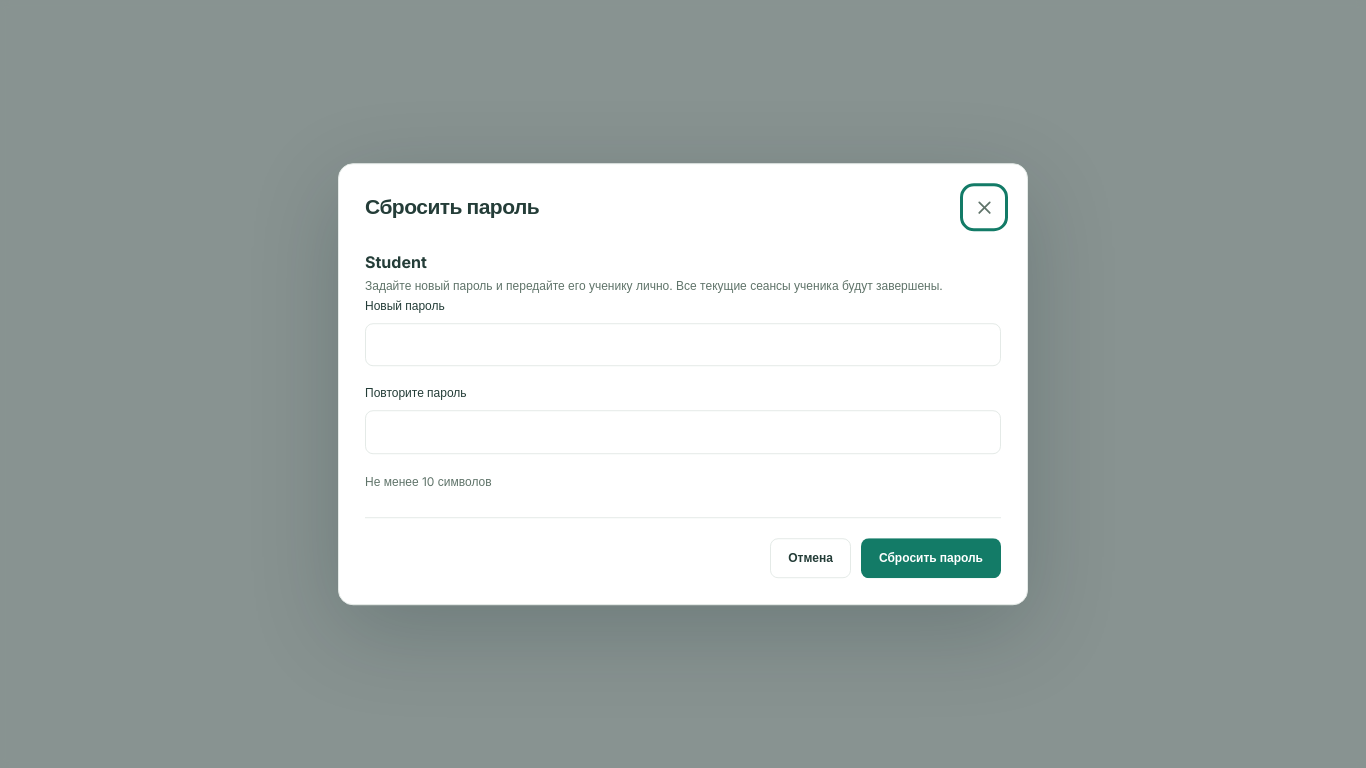
rejects different confirmation and clears password after success
In the password field named "password": [683, 345] box [365, 323, 1001, 366], type "New-password-123"
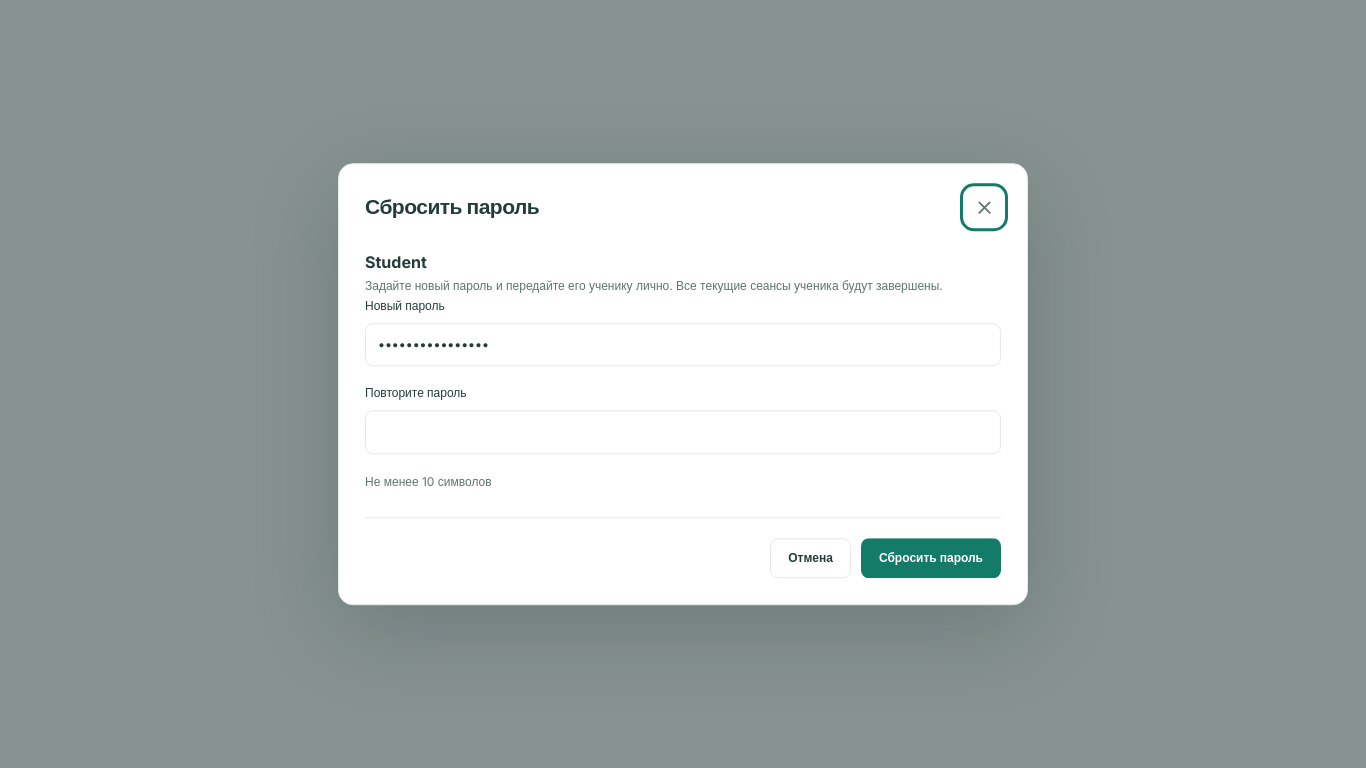
In the password field named "repeat": [683, 432] box [365, 410, 1001, 454], type "Different-password-123"
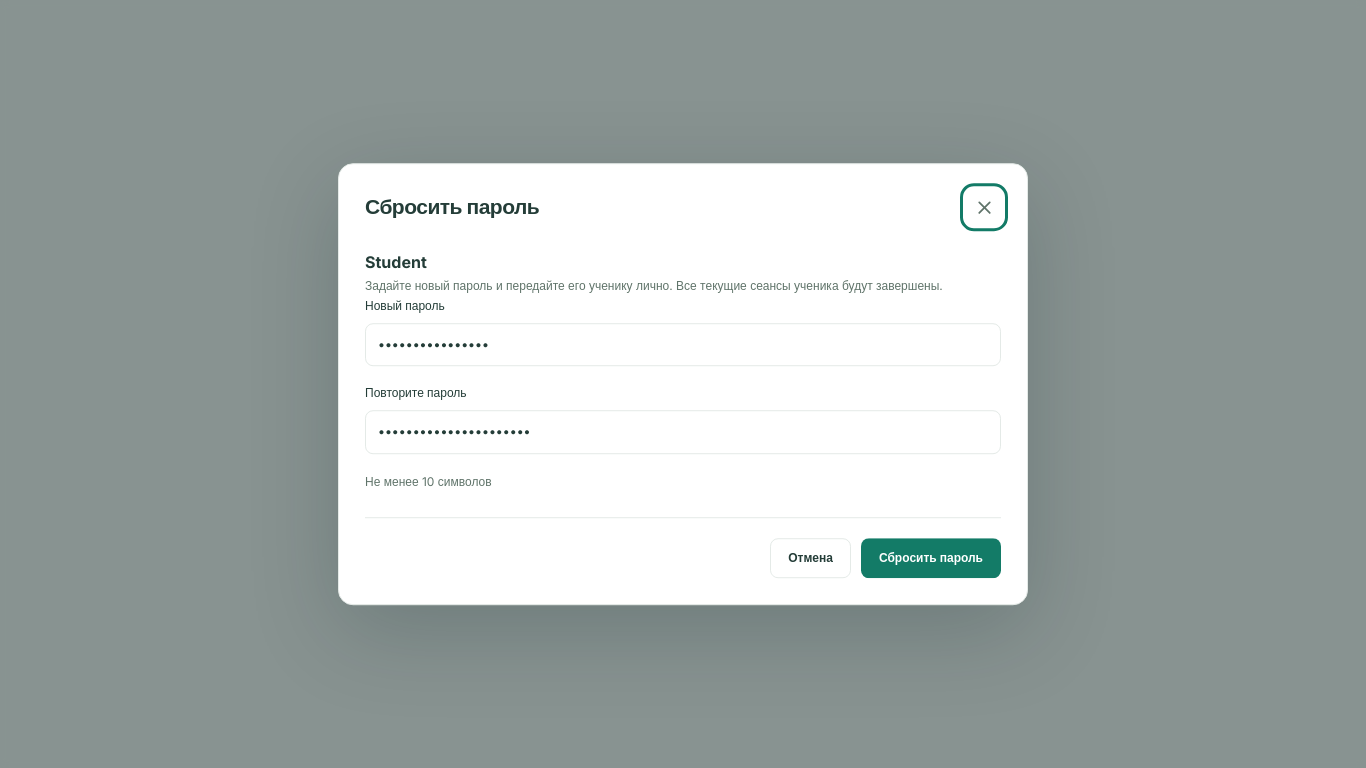
Submit the form, box [365, 276, 1001, 578]
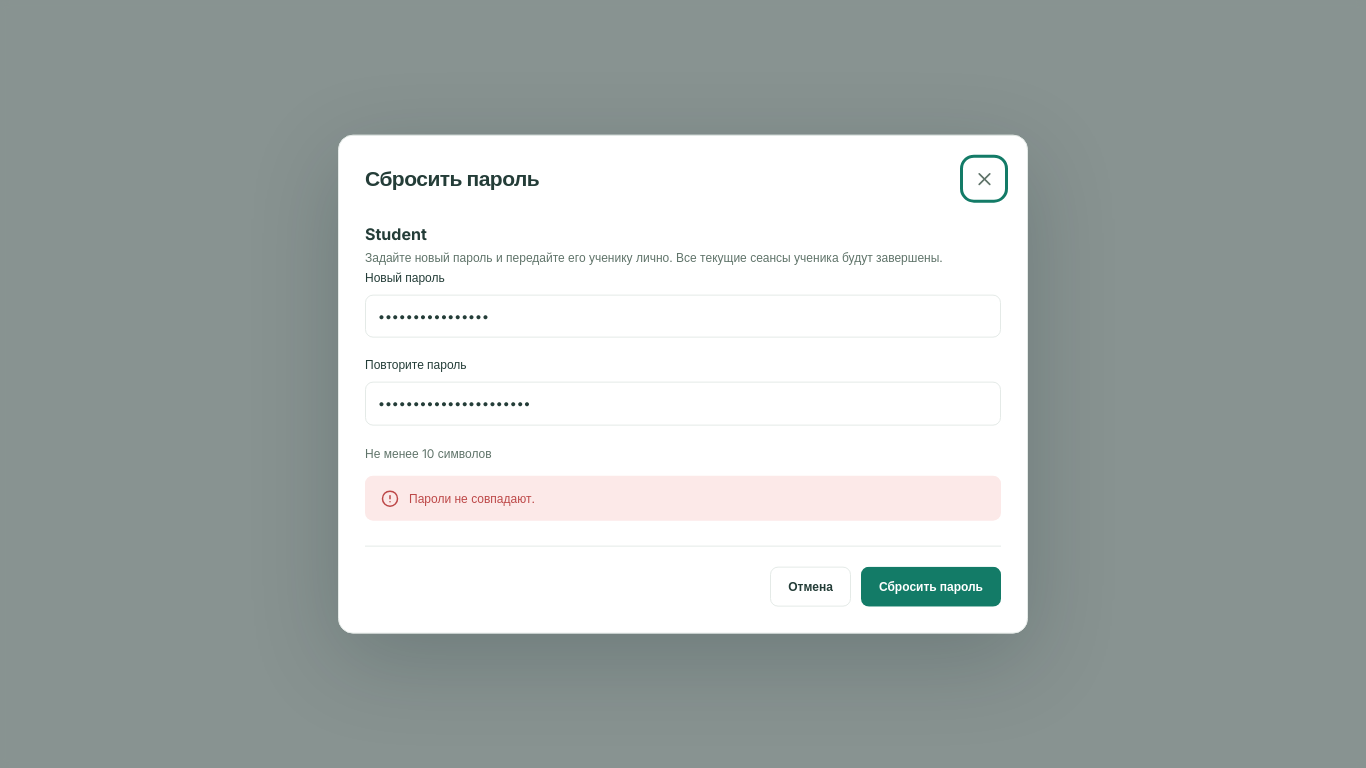
expect the message "Пароли не совпадают." is shown: met, box [365, 476, 1001, 521]
In the password field named "repeat": [683, 403] box [365, 382, 1001, 425], type "New-password-123"
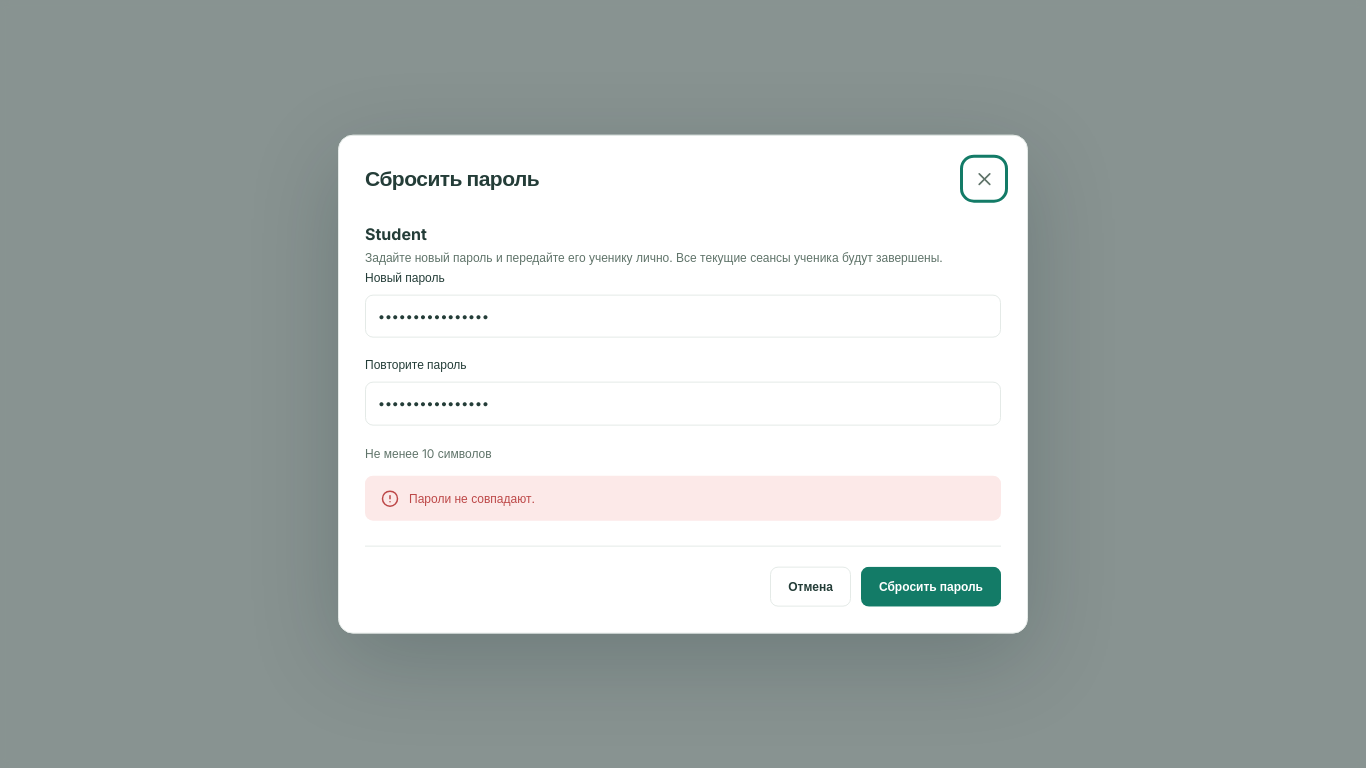
Submit the form, box [365, 248, 1001, 606]
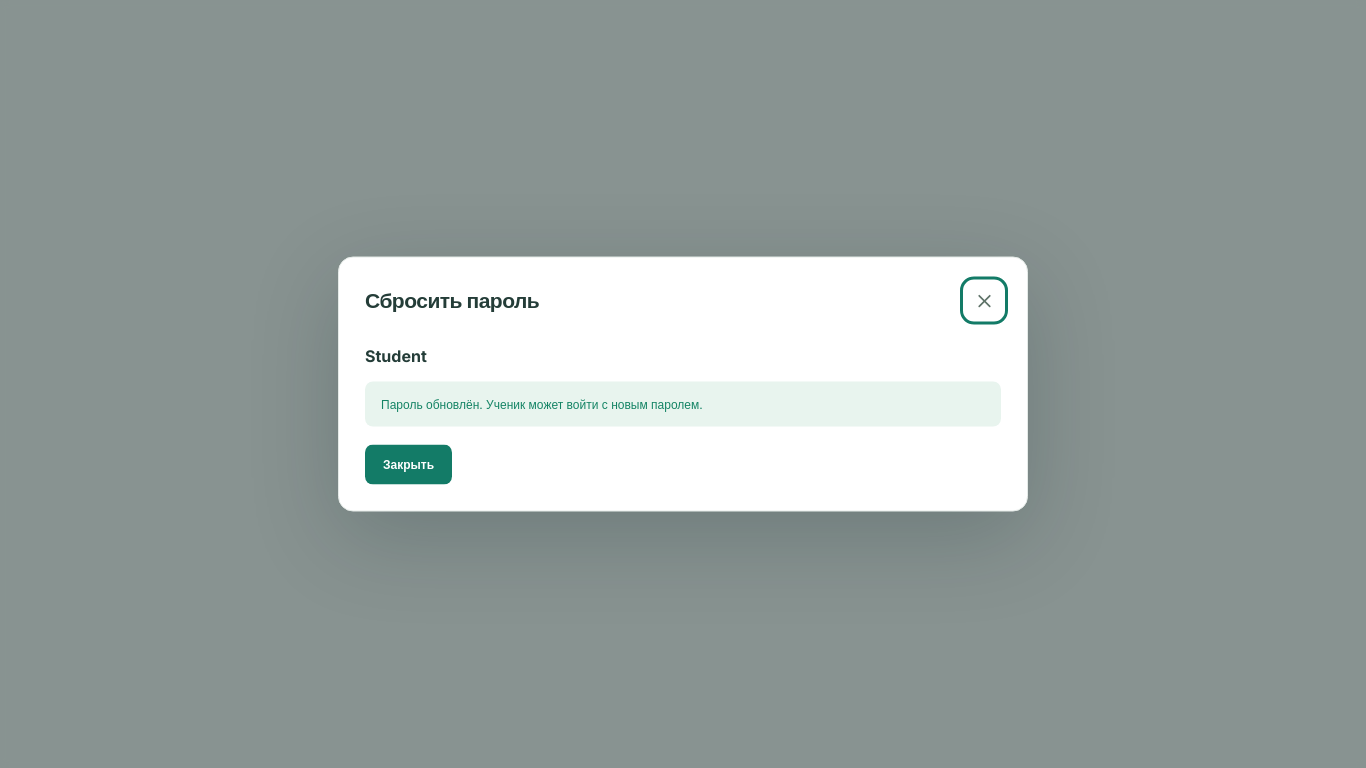
expect the message "Пароль обновлён. Ученик может войти с новым паролем." is shown: met, box [365, 382, 1001, 427]
expect the password field is gone: met
